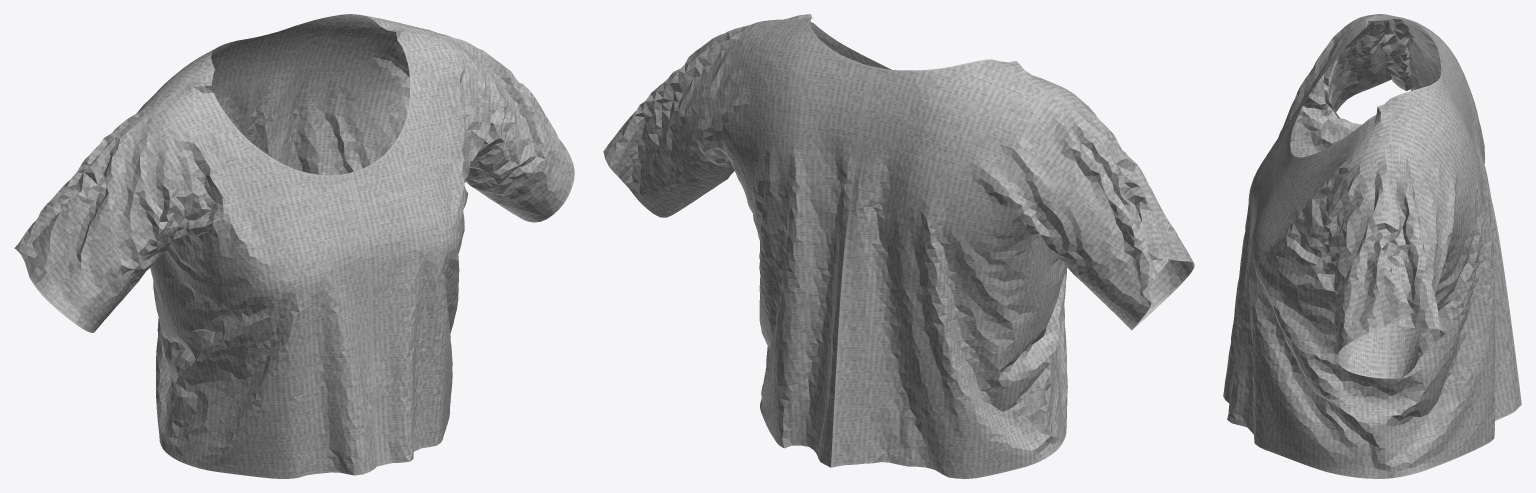
File: bust_plus_3cm_sim.obj
3 renders of one model, left to right at view 1: azimuth 30°, elevation 25°; view 2: azimuth 150°, elevation 25°; view 3: azimuth 270°, elevation 25°, orthographic. The views are drawn at different scales.
Bounding box in the file's own units: 66.81 × 45.93 × 34.32.
1 material, 1 textured.
